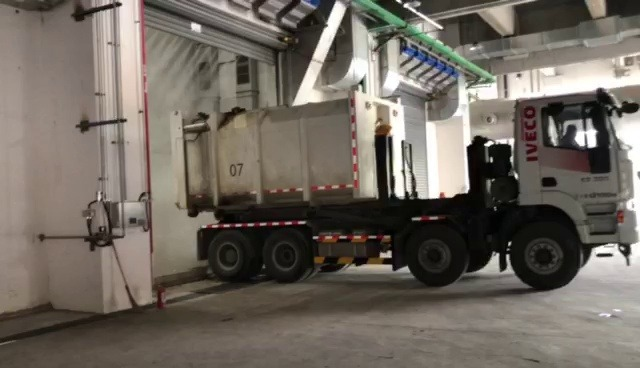dust: (150, 142, 181, 258)
truck: (162, 83, 639, 295)
